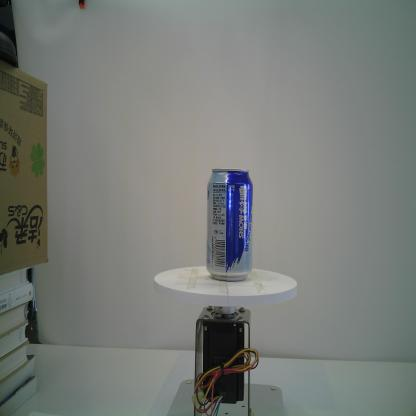Alcohol: (204, 165, 254, 284)
